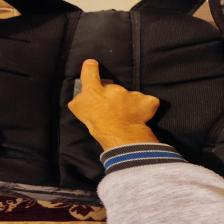one: (64, 57, 162, 136)
